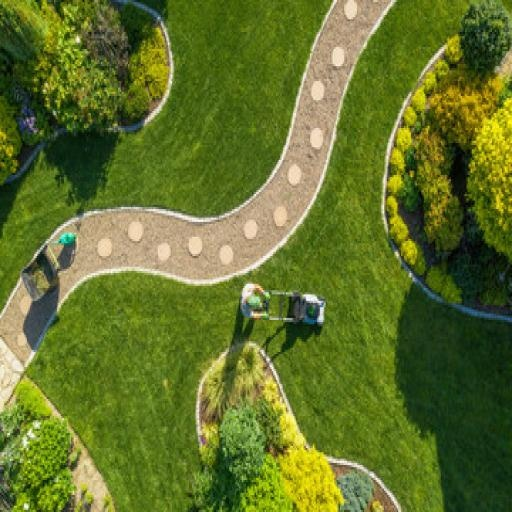tree-top: (469, 92, 512, 264), (30, 45, 120, 127), (418, 169, 470, 250), (279, 445, 341, 512), (120, 32, 168, 118), (435, 74, 491, 141), (217, 410, 264, 486), (462, 0, 512, 68), (235, 460, 290, 512), (0, 0, 48, 54), (0, 96, 27, 190), (338, 469, 378, 512)
